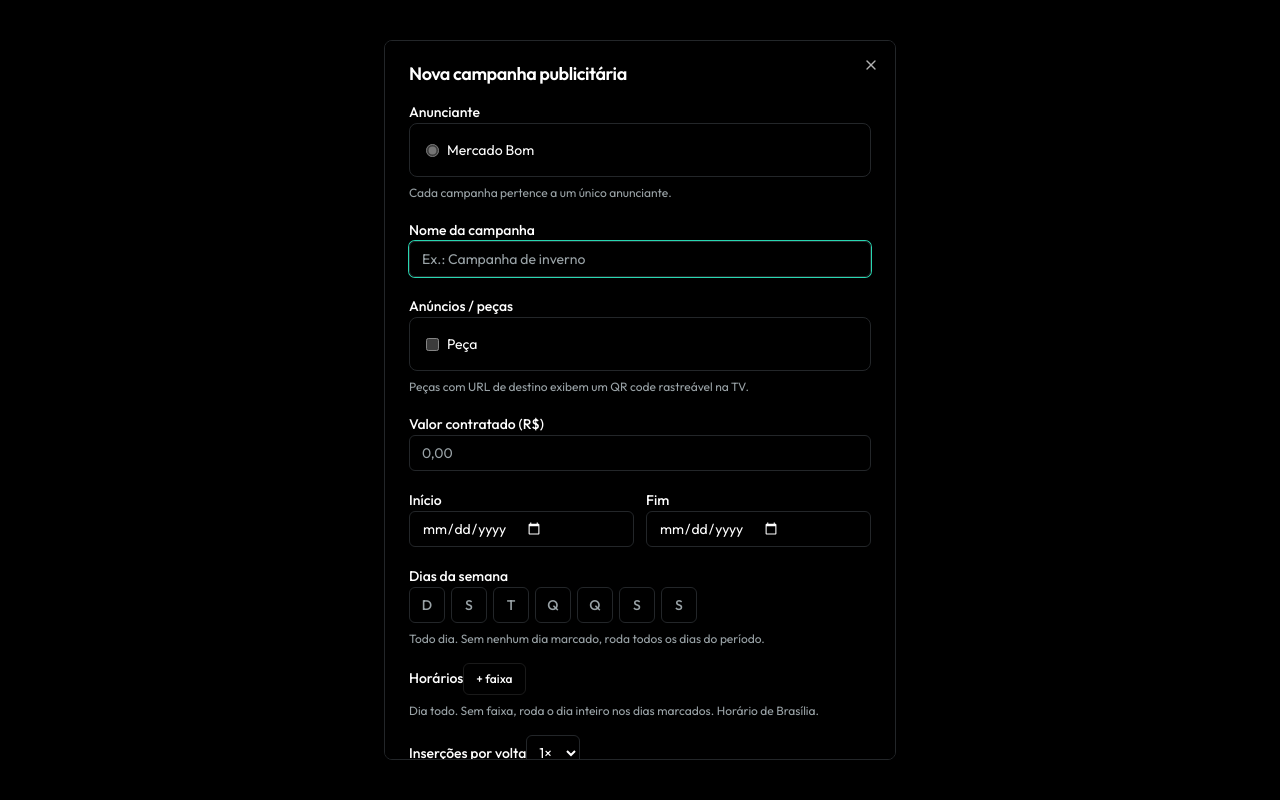
Test: CampaignFormDialog › "+ faixa" some na quarta faixa
What coordinates should you click on to do the following:
click the button "+ faixa"
I would click on:
 (494, 679)
Its box is top-left (463, 663), bottom-right (526, 695).
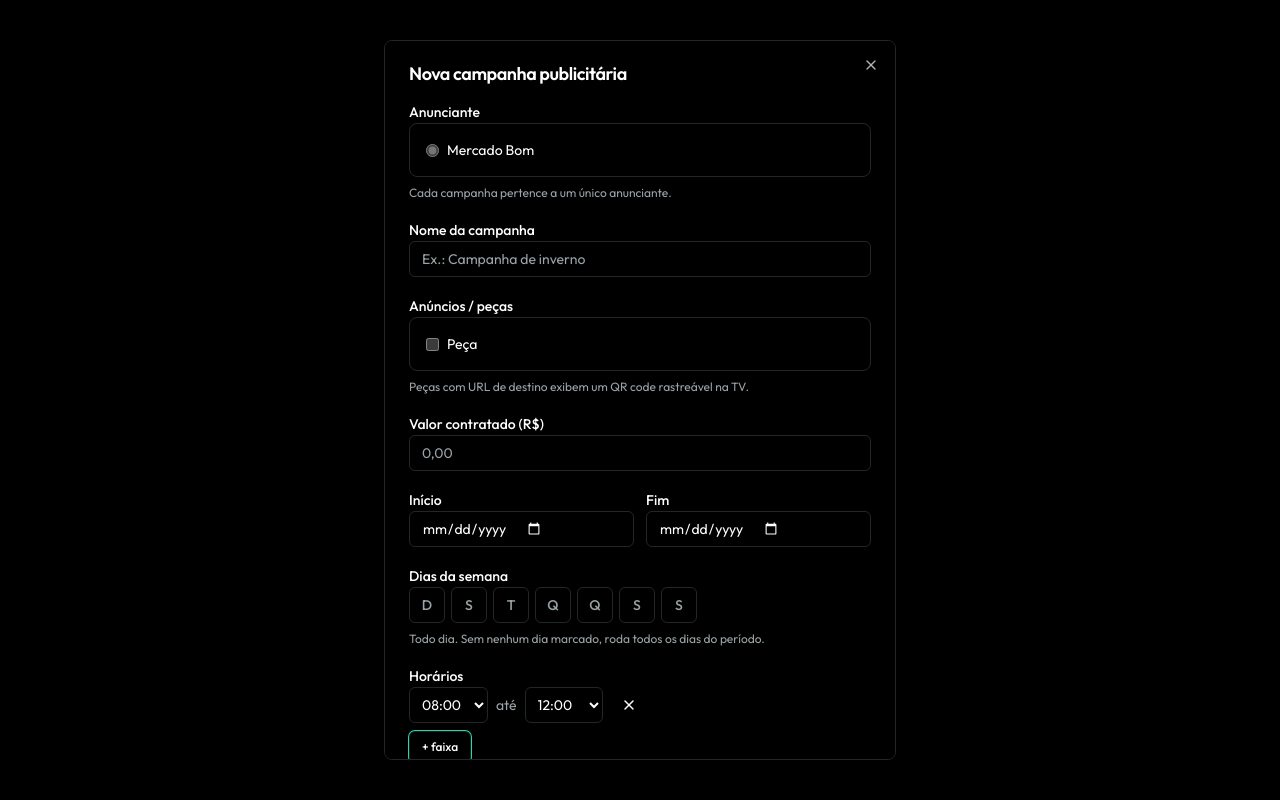
What coordinates should you click on to do the following:
click the button "+ faixa"
I would click on:
 (440, 747)
Its box is top-left (409, 731), bottom-right (471, 763).
(page scrolled)
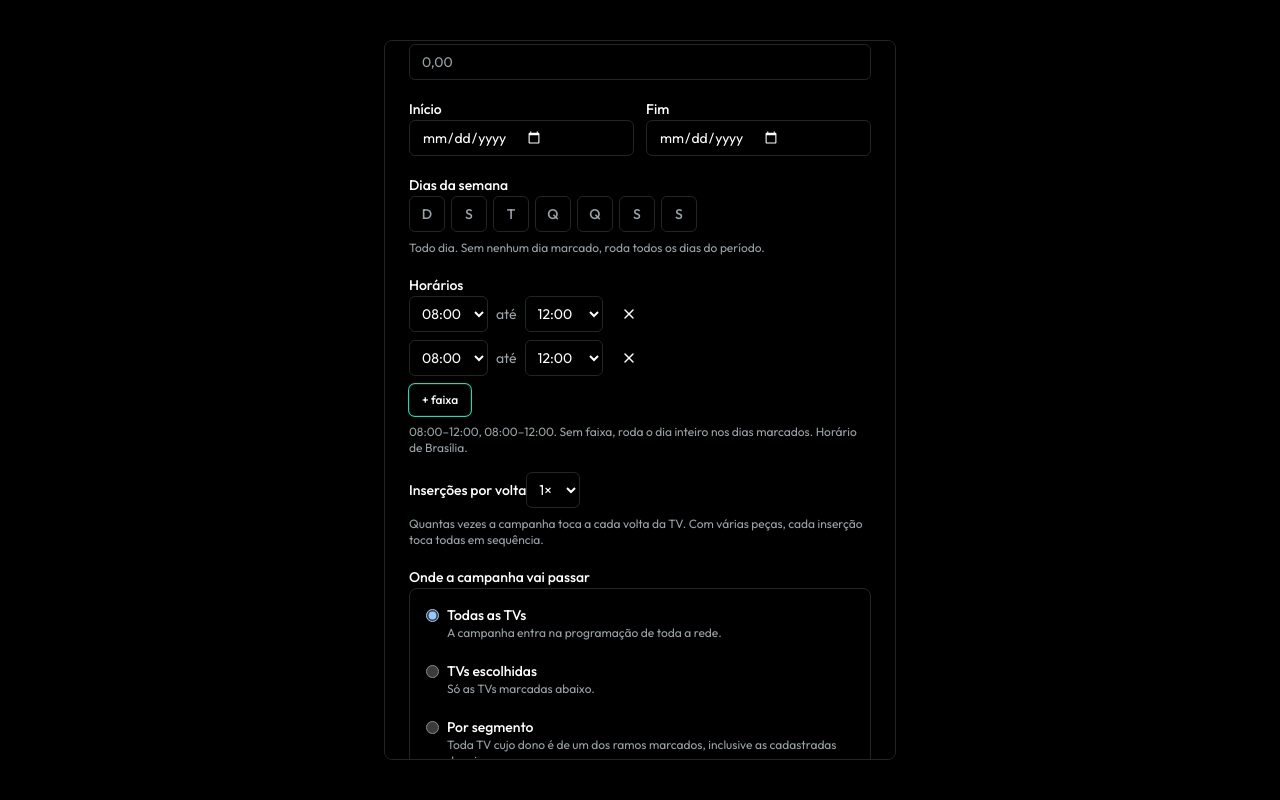
What coordinates should you click on to do the following:
click the button "+ faixa"
I would click on:
 (440, 400)
Its box is top-left (409, 384), bottom-right (471, 416).
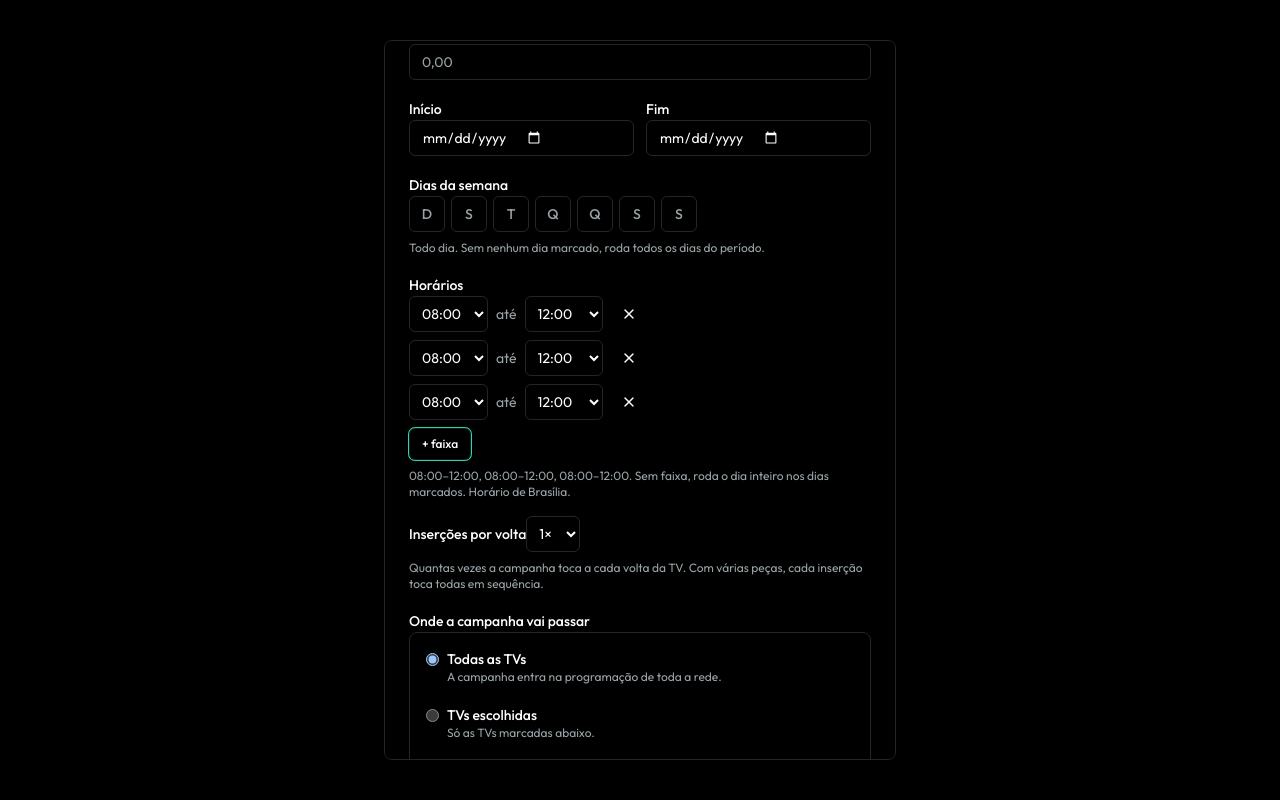
What coordinates should you click on to do the following:
click the button "+ faixa"
I would click on:
 (440, 444)
Its box is top-left (409, 428), bottom-right (471, 460).
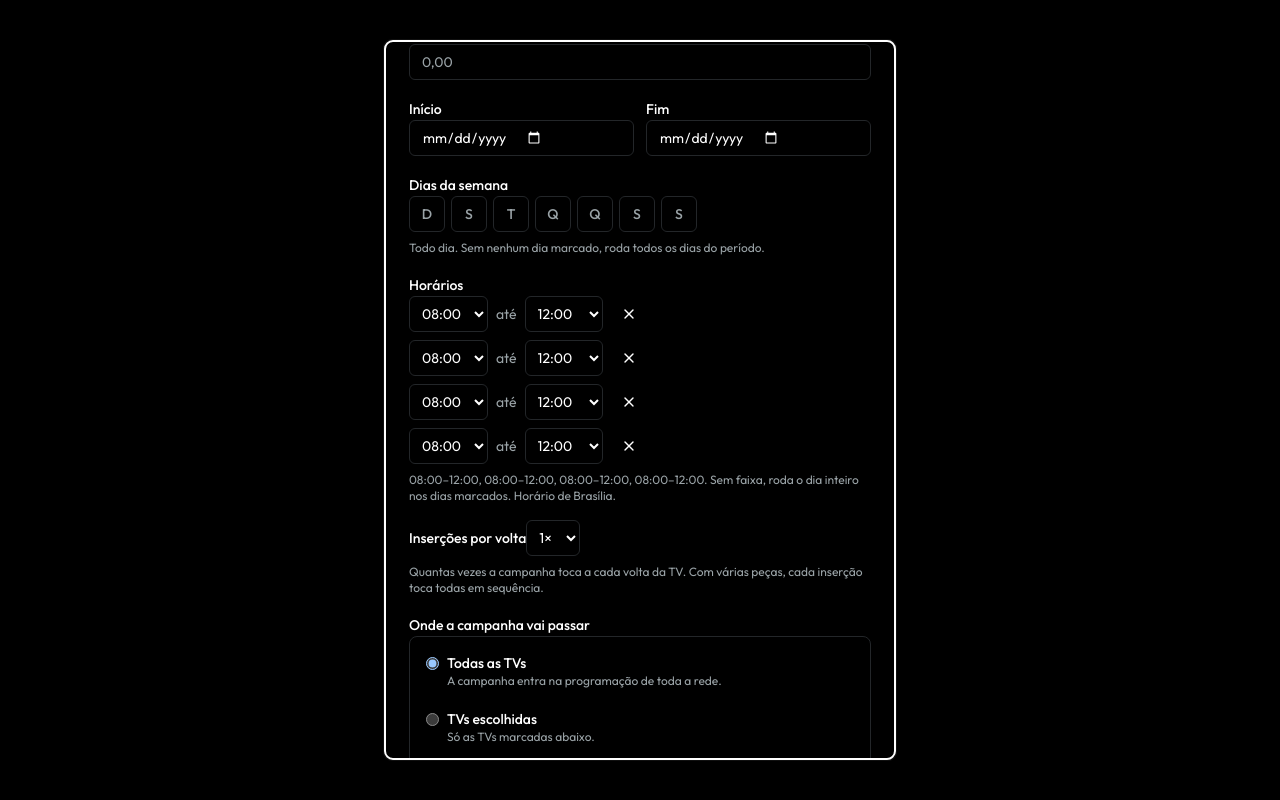
Result: the number of buttons named "Remover faixa" is 4 at top-left (611, 296), bottom-right (647, 332); top-left (611, 340), bottom-right (647, 376); top-left (611, 384), bottom-right (647, 420); top-left (611, 428), bottom-right (647, 464)
Result: the button "+ faixa" is gone
